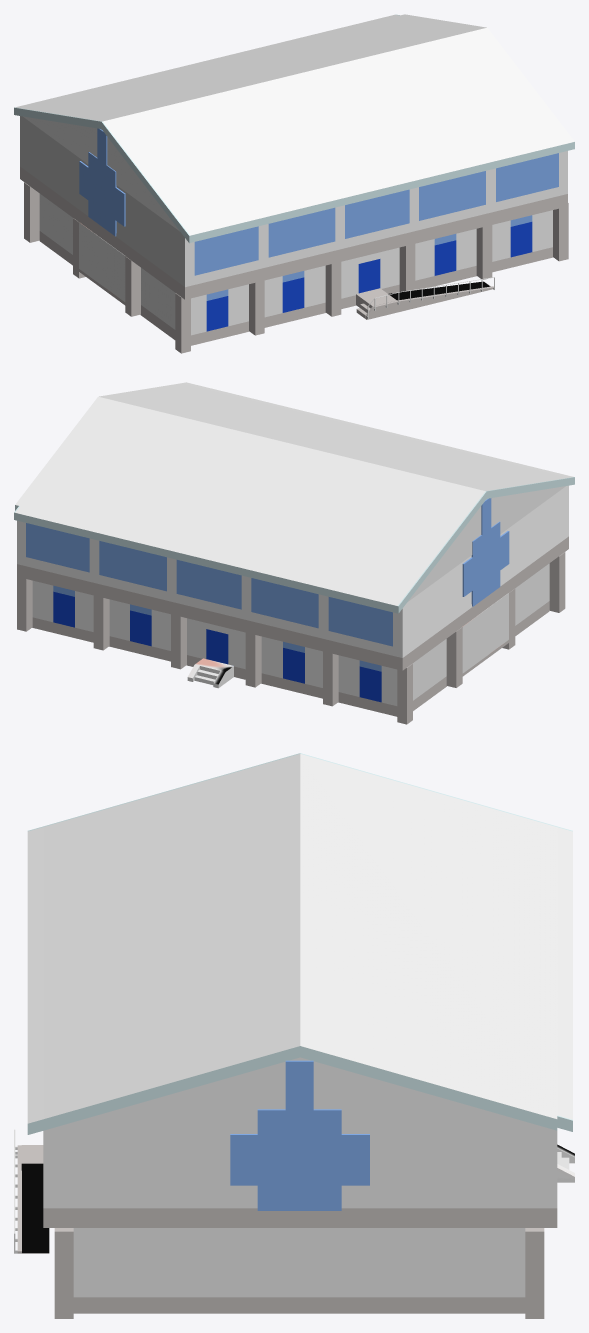
The model's file is taiikukan.glb.
3 renders of one model, top to bottom at view 1: azimuth 30°, elevation 25°; view 2: azimuth 150°, elevation 25°; view 3: azimuth 270°, elevation 25°, orthographic. The views are drawn at different scales.
Visible parts, largest first — view 1: 体育館屋根, 体育館本体, 体育館土台, 体育館・支柱, 体育館本体_2, 立方体.004, 体育館・出っ張り, 体育館・真ん中出入り口土台, 体育館・真ん中出入り口手すり土台; view 2: 体育館屋根, 体育館本体, 体育館土台, 体育館・支柱, 体育館本体_2, 立方体.004, 体育館・出っ張り, 体育館・真ん中出入り口・反対側・階段; view 3: 体育館屋根, 体育館本体, 体育館土台, 体育館本体_2, 立方体.005, 体育館・支柱, 体育館・真ん中出入り口土台.
Part boxes in pixels (x1=…): 体育館屋根: x1=14, y1=14, x2=574, y2=243; 体育館本体: x1=20, y1=116, x2=567, y2=299; 体育館土台: x1=39, y1=194, x2=552, y2=345; 体育館・支柱: x1=24, y1=182, x2=568, y2=353; 体育館本体_2: x1=23, y1=116, x2=179, y2=231; 立方体.004: x1=79, y1=128, x2=125, y2=236; 体育館・出っ張り: x1=79, y1=222, x2=125, y2=305; 体育館・真ん中出入り口土台: x1=356, y1=281, x2=490, y2=318; 体育館・真ん中出入り口手すり土台: x1=365, y1=286, x2=493, y2=319; 体育館屋根: x1=14, y1=382, x2=574, y2=613; 体育館本体: x1=17, y1=485, x2=568, y2=670; 体育館土台: x1=32, y1=563, x2=549, y2=716; 体育館・支柱: x1=17, y1=552, x2=565, y2=724; 体育館本体_2: x1=408, y1=486, x2=565, y2=601; 立方体.004: x1=462, y1=498, x2=509, y2=606; 体育館・出っ張り: x1=462, y1=593, x2=508, y2=676; 体育館・真ん中出入り口・反対側・階段: x1=187, y1=658, x2=233, y2=688; 体育館屋根: x1=27, y1=753, x2=572, y2=1134; 体育館本体: x1=43, y1=1127, x2=557, y2=1227; 体育館土台: x1=73, y1=1228, x2=525, y2=1313; 体育館本体_2: x1=55, y1=1057, x2=545, y2=1127; 立方体.005: x1=230, y1=1060, x2=369, y2=1210; 体育館・支柱: x1=54, y1=1228, x2=544, y2=1318; 体育館・真ん中出入り口土台: x1=21, y1=1145, x2=49, y2=1253.
Bounding box in the file's own units: 8.88 × 3.82 × 7.14.
Materials: 3 (3 with a texture image).
